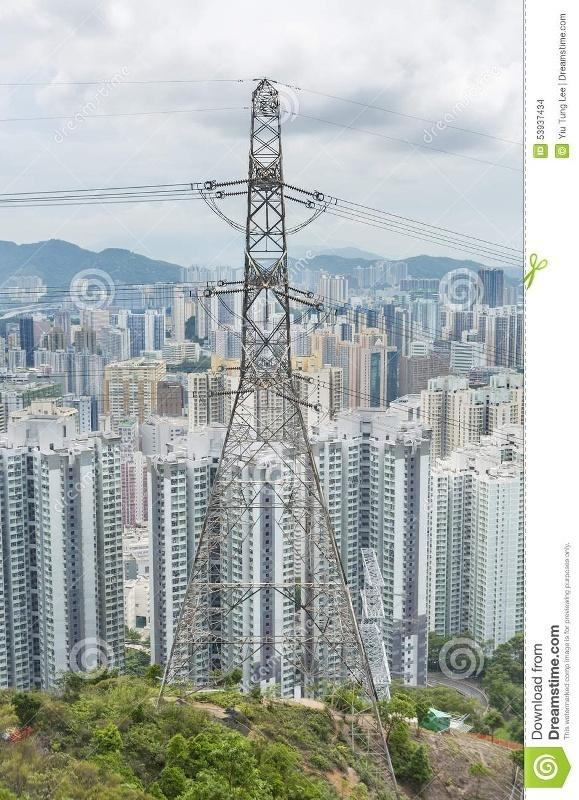power_tower: (140, 57, 396, 713)
